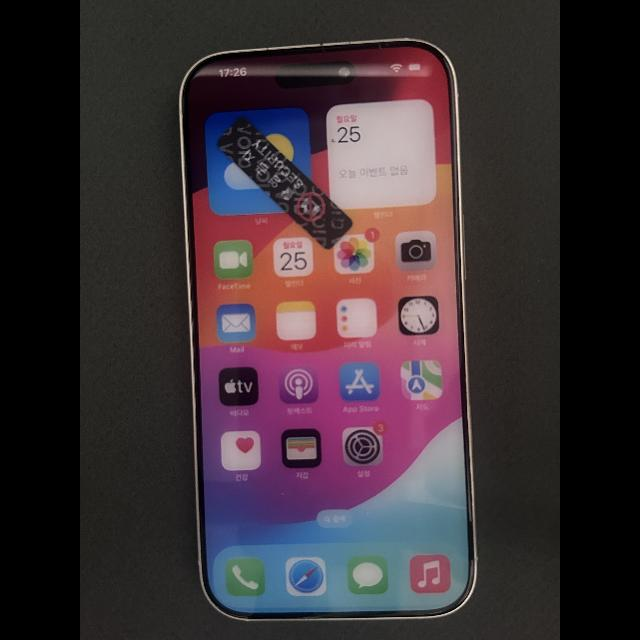lens: (338, 66, 351, 78)
phone: (178, 37, 478, 622)
sticker: (217, 116, 353, 250)
